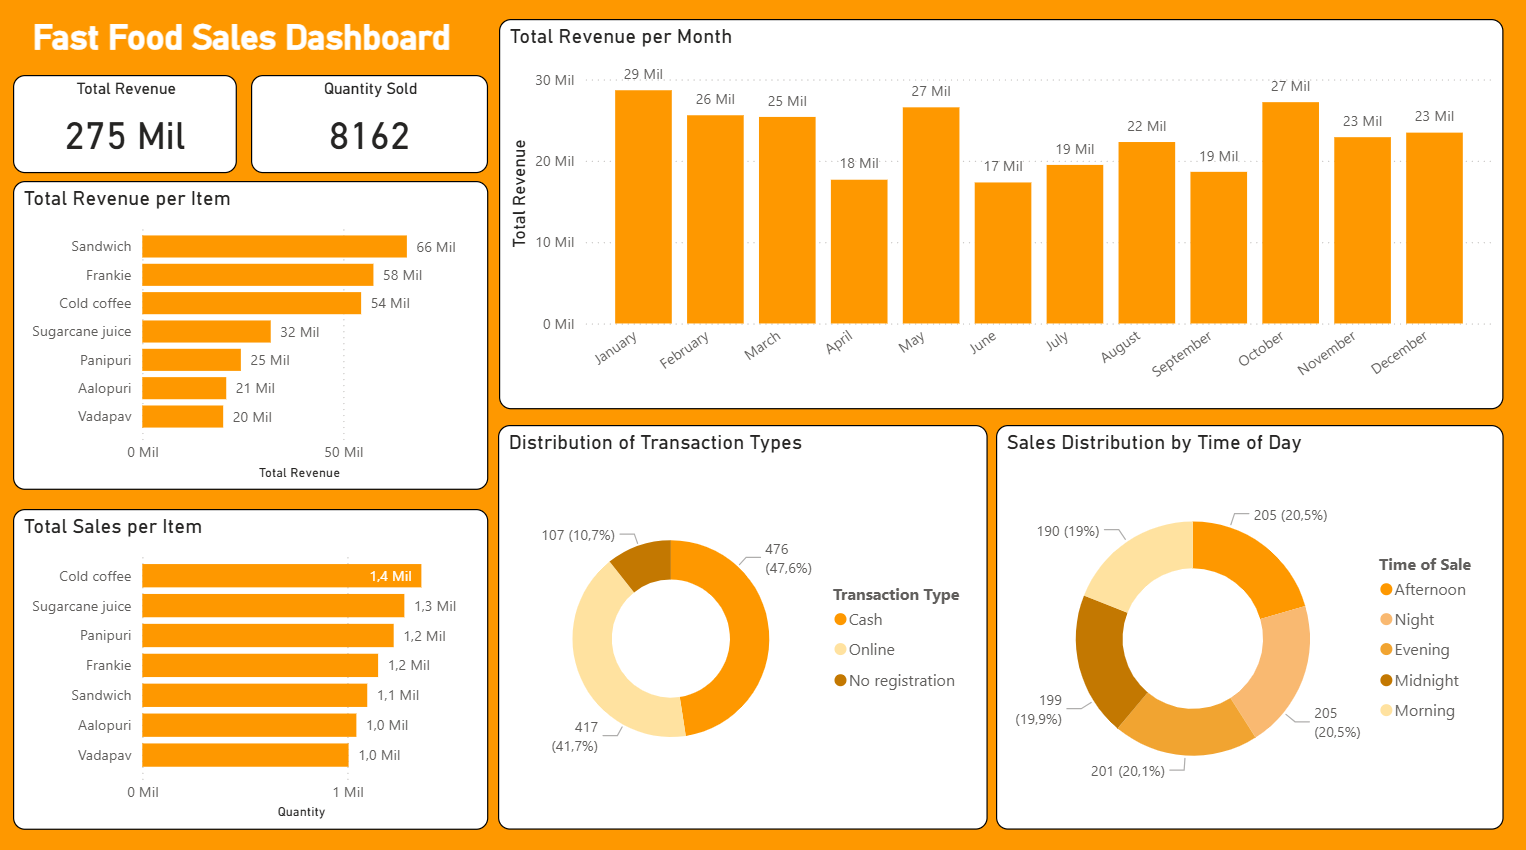

What the dashboard file says about the page in this screenshot:
{"tool":"powerbi","page":{"name":"Página 1","canvas":[1280,720],"ordinal":0},"visuals":[{"type":"clusteredBarChart","title":"Total Revenue per Item","fields":{"Category":["Fast Food Sales.item_name"],"Y":["Fast Food Sales.Faturamento Total"]},"box":[14.3,155.8,396.7,257.9],"z":0},{"type":"clusteredColumnChart","title":"Total Revenue per Month","fields":{"Y":["Fast Food Sales.Faturamento Total"],"Category":["Fast Food Sales.Month Name"]},"box":[420.3,21.3,838.8,326.3],"z":1000},{"type":"donutChart","title":"Distribution of Transaction Types","fields":{"Category":["Fast Food Sales.transaction_type"],"Y":["CountNonNull(Fast Food Sales.transaction_type)"]},"box":[419.4,360,408.8,337.8],"z":2000},{"type":"donutChart","title":"Sales Distribution by Time of Day","fields":{"Y":["CountNonNull(Fast Food Sales.time_of_sale)"],"Category":["Fast Food Sales.time_of_sale"]},"box":[835.3,360,423.8,337.8],"z":3000},{"type":"textbox","box":[25.7,14.2,373.3,46.1],"z":4000},{"type":"card","title":"Total Revenue","fields":{"Values":["Fast Food Sales.Faturamento Total"]},"box":[14.2,67.4,187.1,81.6],"z":5000},{"type":"card","title":"Quantity Sold","fields":{"Values":["Sum(Fast Food Sales.quantity)"]},"box":[212.8,67.4,197.7,81.6],"z":6000},{"type":"clusteredBarChart","title":"Total Sales per Item","fields":{"Category":["Fast Food Sales.item_name"],"Y":["Sum(Fast Food Sales.quantity)"]},"box":[14.2,430,397.2,267.8],"z":7000}]}

Visuals, with their boxes in screenshot pixels (x1, y1, x2, y2), scaled from the page's 1280x720 canvas onto the 1526x850 screenshot:
"Total Revenue per Item" clusteredBarChart: Rect(17, 184, 490, 488)
"Total Revenue per Month" clusteredColumnChart: Rect(501, 25, 1501, 410)
"Distribution of Transaction Types" donutChart: Rect(500, 425, 987, 824)
"Sales Distribution by Time of Day" donutChart: Rect(996, 425, 1501, 824)
textbox: Rect(31, 17, 476, 71)
"Total Revenue" card: Rect(17, 80, 240, 176)
"Quantity Sold" card: Rect(254, 80, 489, 176)
"Total Sales per Item" clusteredBarChart: Rect(17, 508, 490, 824)
